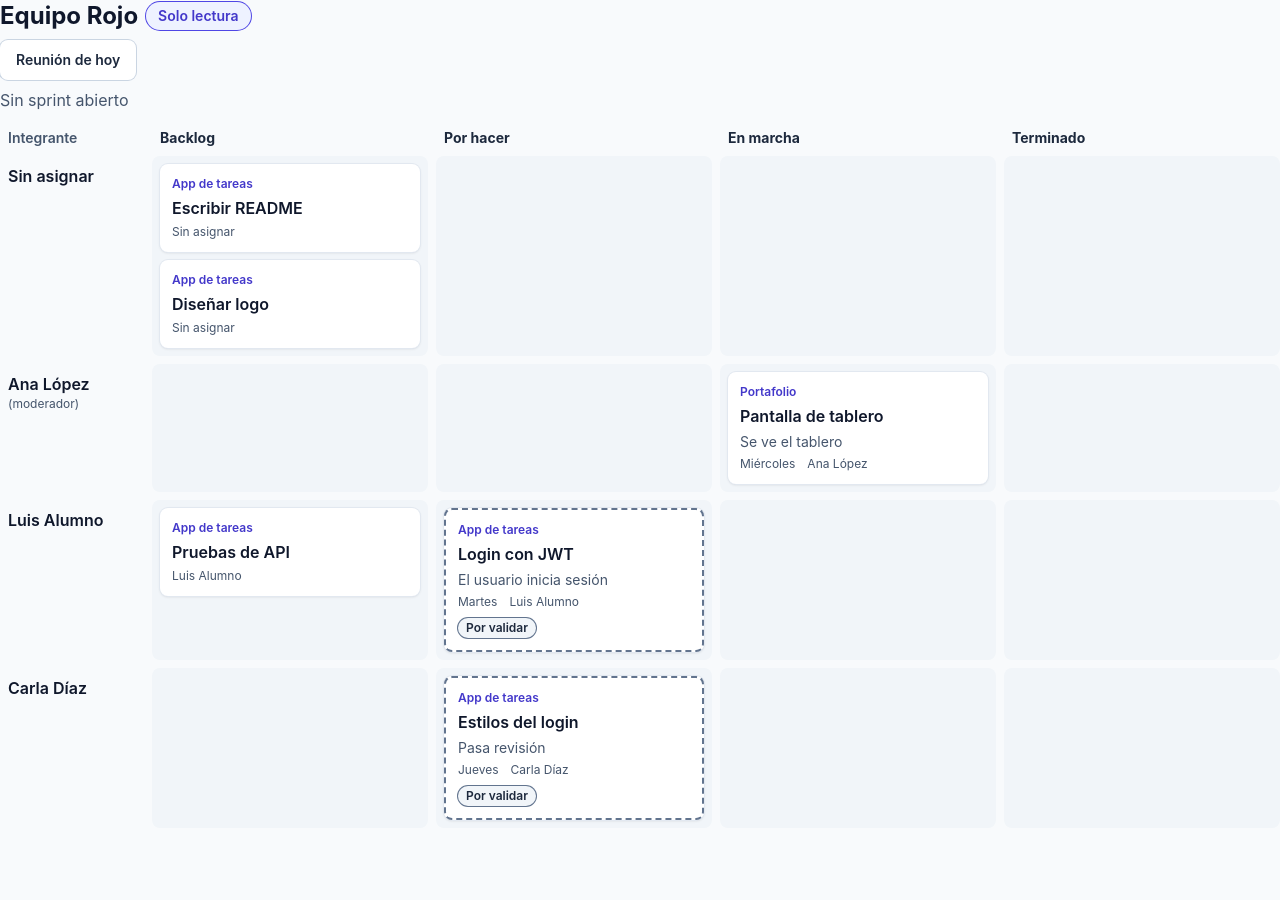
Scenario: BoardPage › is read-only for the teacher: no create, no filter, no forms in the card dialog
This screenshot has width=1280, height=900.
Click the button "Login con JWT" at point(574, 580), box x1=444 y1=508 x2=704 y2=652
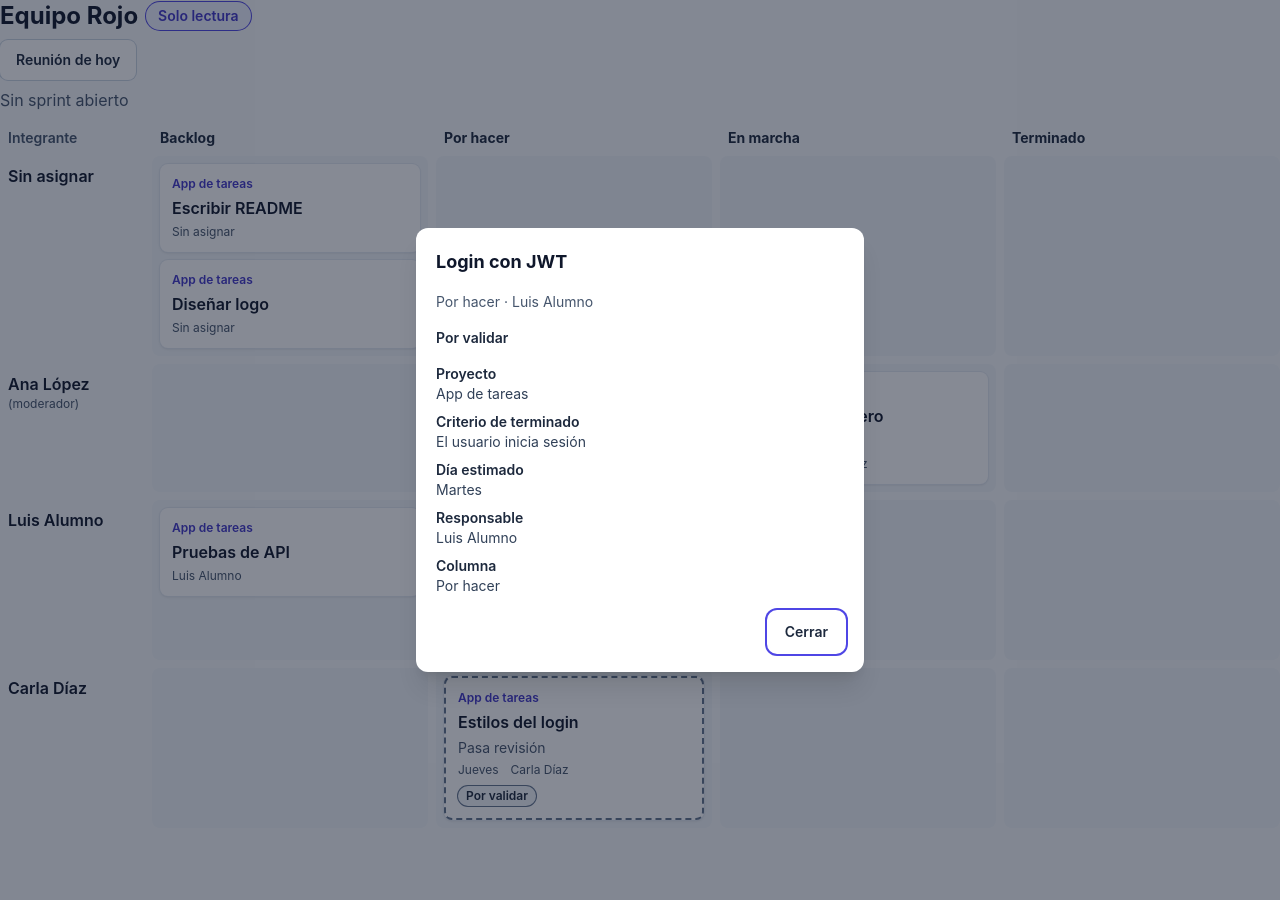
Expected: the text "Solo lectura" is shown, x1=146 y1=2 x2=250 y2=30
Now the text "El usuario inicia sesión" is shown, box x1=436 y1=433 x2=586 y2=450
